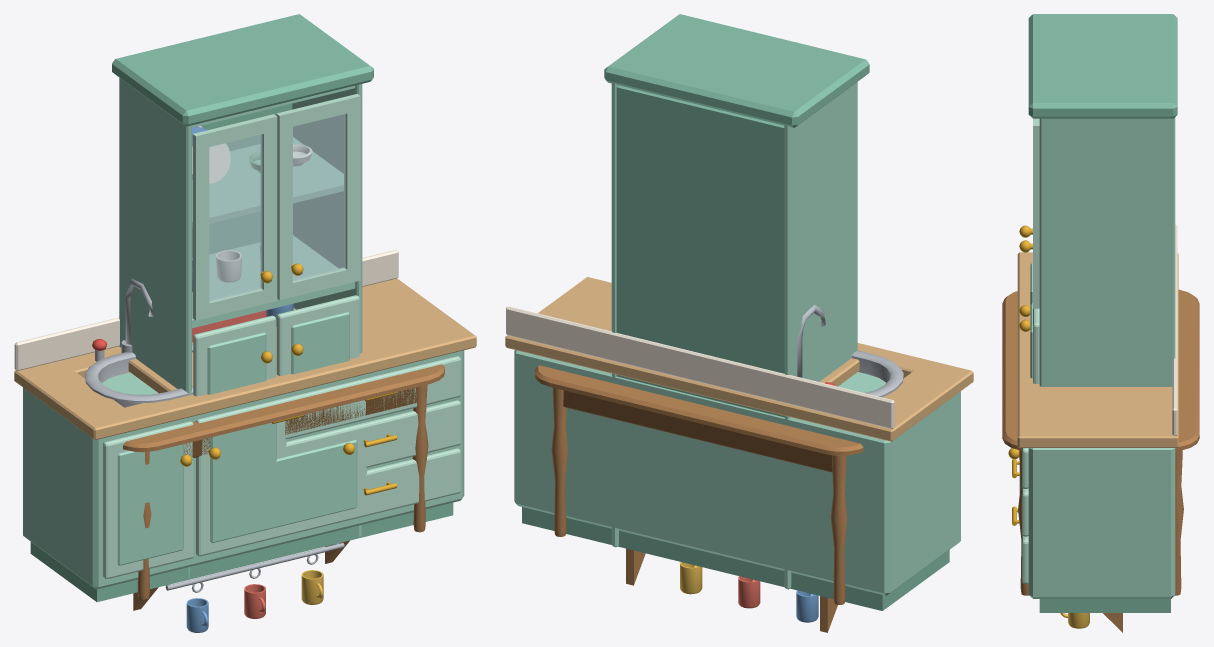
File: casa-cozinha.glb
The picture shows the model from 3 angles, left to right: view 1: azimuth 30°, elevation 25°; view 2: azimuth 150°, elevation 25°; view 3: azimuth 270°, elevation 25°; orthographic projection. The views are drawn at different scales.
Visible parts, largest first — view 1: armario-alto, balcao-pia, balcao, mesa-cozinha, prateleira-potes; view 2: armario-alto, balcao-pia, balcao, mesa-cozinha, prateleira-potes; view 3: armario-alto, balcao-pia, mesa-cozinha, balcao, prateleira-potes.
Boxes of the visible parts, x1,y1,x2,y2 form: armario-alto: (112, 14, 373, 577); balcao-pia: (14, 249, 476, 601); balcao: (113, 303, 379, 578); mesa-cozinha: (123, 364, 444, 599); prateleira-potes: (133, 540, 349, 632); armario-alto: (604, 14, 869, 589); balcao-pia: (505, 277, 973, 610); balcao: (603, 330, 860, 586); mesa-cozinha: (534, 365, 863, 604); prateleira-potes: (626, 548, 837, 632); armario-alto: (1019, 14, 1177, 386); balcao-pia: (1012, 224, 1178, 612); mesa-cozinha: (1002, 289, 1199, 595); balcao: (1008, 271, 1178, 492); prateleira-potes: (1060, 613, 1122, 632).
Bounding box in the file's own units: 2 × 2.71 × 0.9.
